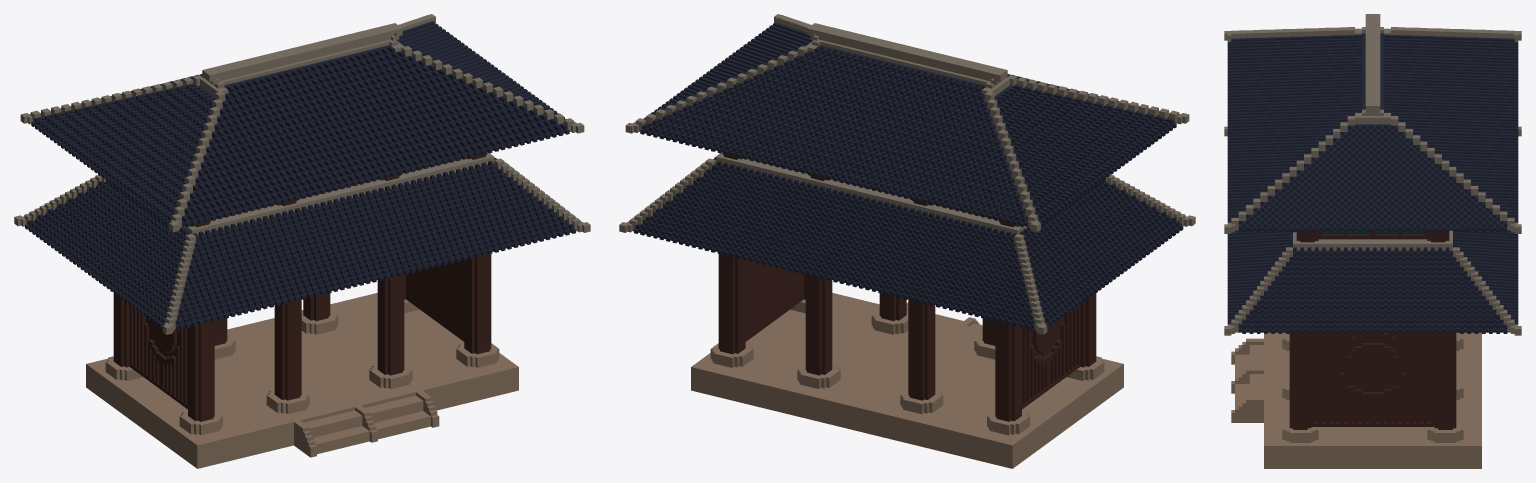
The model's file is Korean castle_door_02.FBX.
The picture shows the model from 3 angles, left to right: view 1: azimuth 30°, elevation 25°; view 2: azimuth 150°, elevation 25°; view 3: azimuth 270°, elevation 25°; orthographic projection. The views are drawn at different scales.
Parts seen in each view (by area): view 1: Voxel_Korean_traditional castle-18; view 2: Voxel_Korean_traditional castle-18; view 3: Voxel_Korean_traditional castle-18.
Part boxes in pixels (left/top/right/bottom): Voxel_Korean_traditional castle-18: left=14, top=14, right=590, bottom=468; Voxel_Korean_traditional castle-18: left=619, top=14, right=1195, bottom=468; Voxel_Korean_traditional castle-18: left=1224, top=14, right=1521, bottom=468.
Bounding box in the file's own units: 264 × 202 × 164.
1 material, 1 textured.
